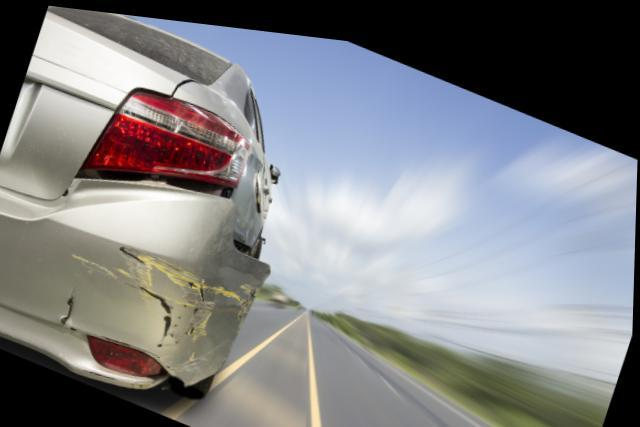crack: (61, 285, 78, 323)
dislocated part: (0, 179, 274, 384)
scratch: (68, 240, 262, 348)
